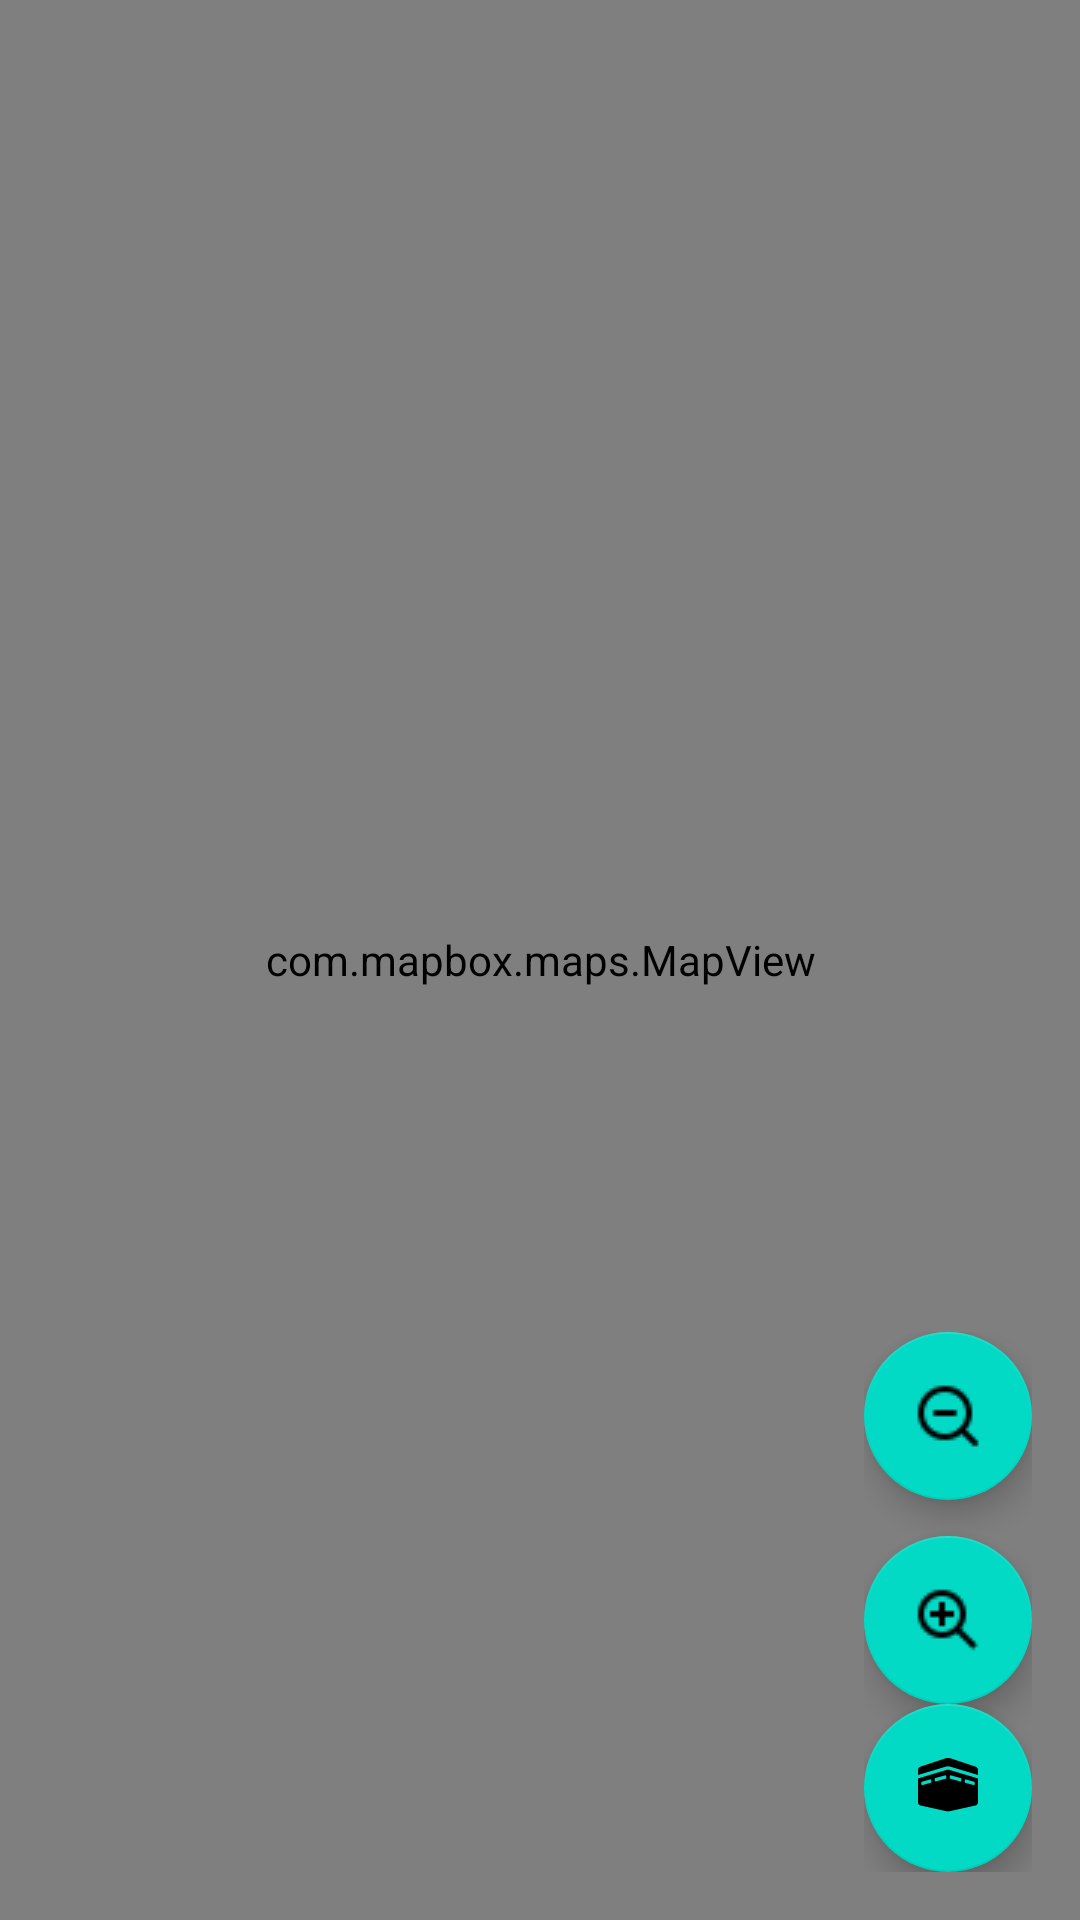

Locate icon controls on the screen. Image size 1080x1920, boxes as (x1, y1, x2, y2).
kaaba: (864, 1704, 1032, 1872)
zoom in: (864, 1536, 1032, 1704)
zoom out: (864, 1332, 1032, 1500)
